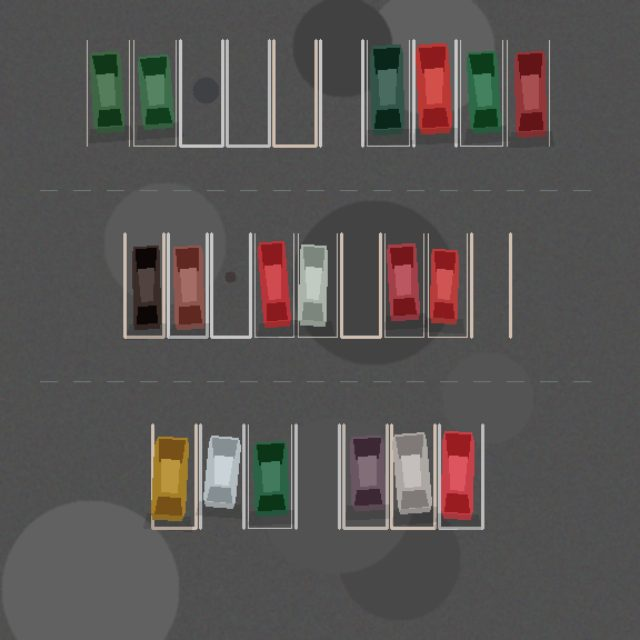space-empty: (273, 40, 316, 146), (296, 424, 339, 528), (180, 40, 222, 146), (227, 40, 269, 146), (320, 40, 362, 146), (211, 233, 250, 337), (341, 233, 380, 337), (471, 233, 510, 337)
space-occupied: (152, 424, 196, 528), (343, 424, 387, 528), (133, 40, 176, 146), (413, 40, 456, 146), (200, 424, 243, 528), (248, 424, 291, 528), (391, 424, 434, 528), (439, 424, 482, 528), (87, 40, 129, 146), (367, 40, 409, 146), (460, 40, 502, 146), (507, 40, 549, 146), (124, 233, 163, 337), (168, 233, 207, 337), (254, 233, 293, 337), (298, 233, 337, 337), (384, 233, 423, 337), (428, 233, 467, 337)
